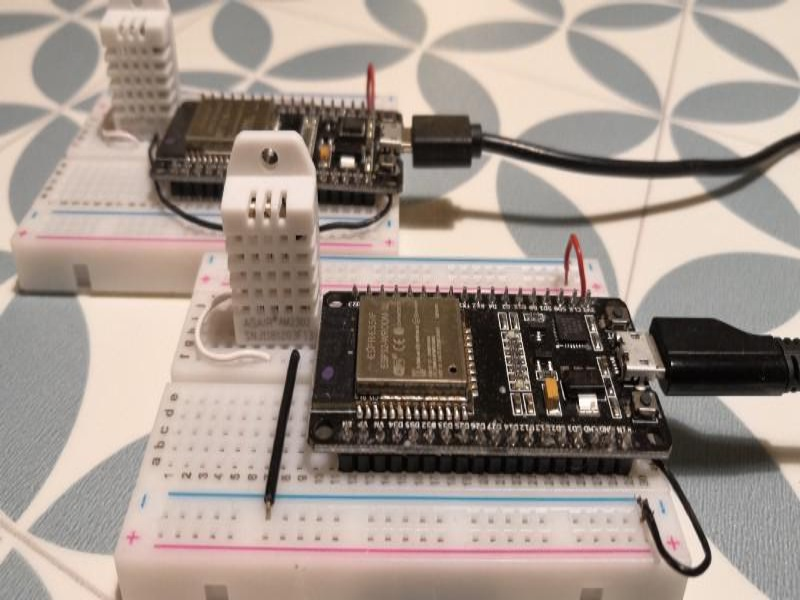esp32: (314, 266, 680, 472)
